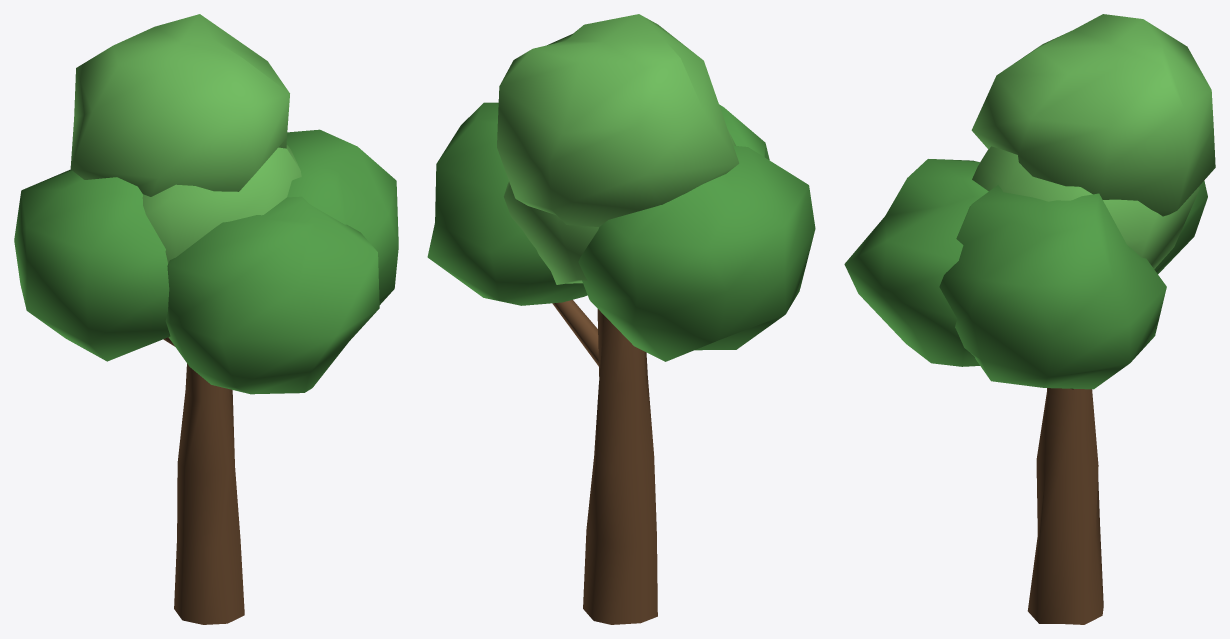
Rendered from tree_round.glb.
The picture shows the model from 3 angles, left to right: view 1: azimuth 30°, elevation 25°; view 2: azimuth 150°, elevation 25°; view 3: azimuth 270°, elevation 25°; orthographic projection. The views are drawn at different scales.
Visible parts, largest first — view 1: tree_round_mesh; view 2: tree_round_mesh; view 3: tree_round_mesh.
Part boxes in pixels (x1,y1,x2,y2): tree_round_mesh: (14,14,398,624); tree_round_mesh: (427,14,815,624); tree_round_mesh: (844,14,1215,624).
Bounding box in the file's own units: 3.23 × 4.97 × 2.96.
